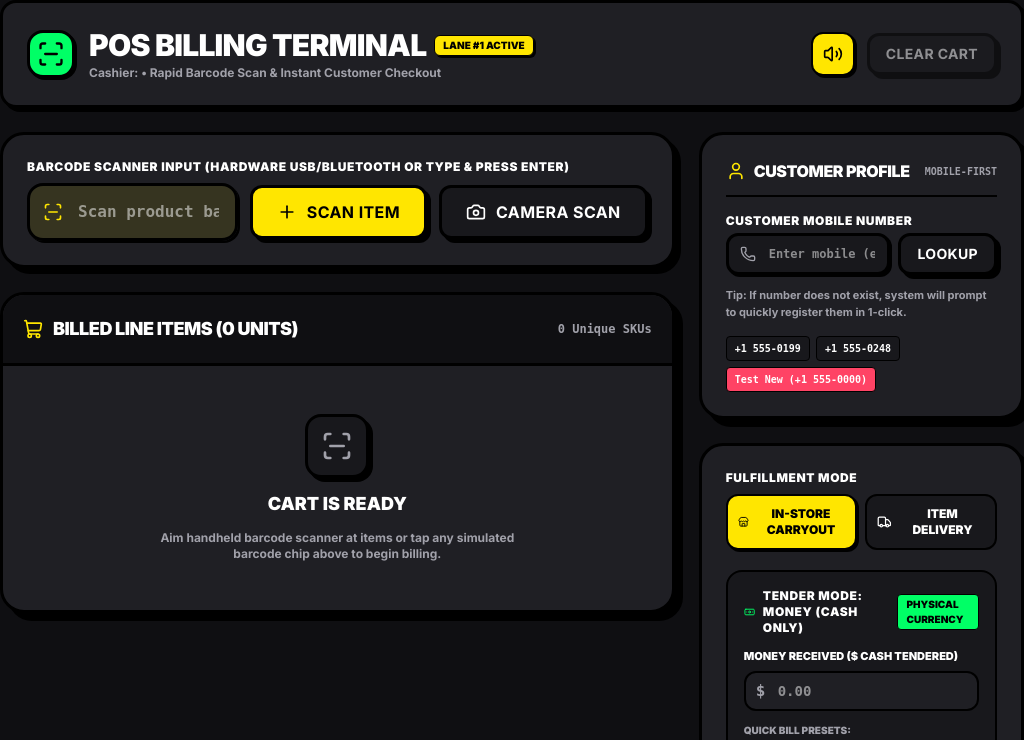
Test: PosBillingPage Component › looks up existing customer by mobile and attaches to order
Type "+1 555-0199" into the field with placeholder "Enter mobile (e.g. +1 555-0199)".
click(808, 254); type("+1 555-0199")  # box [726,233,890,275]
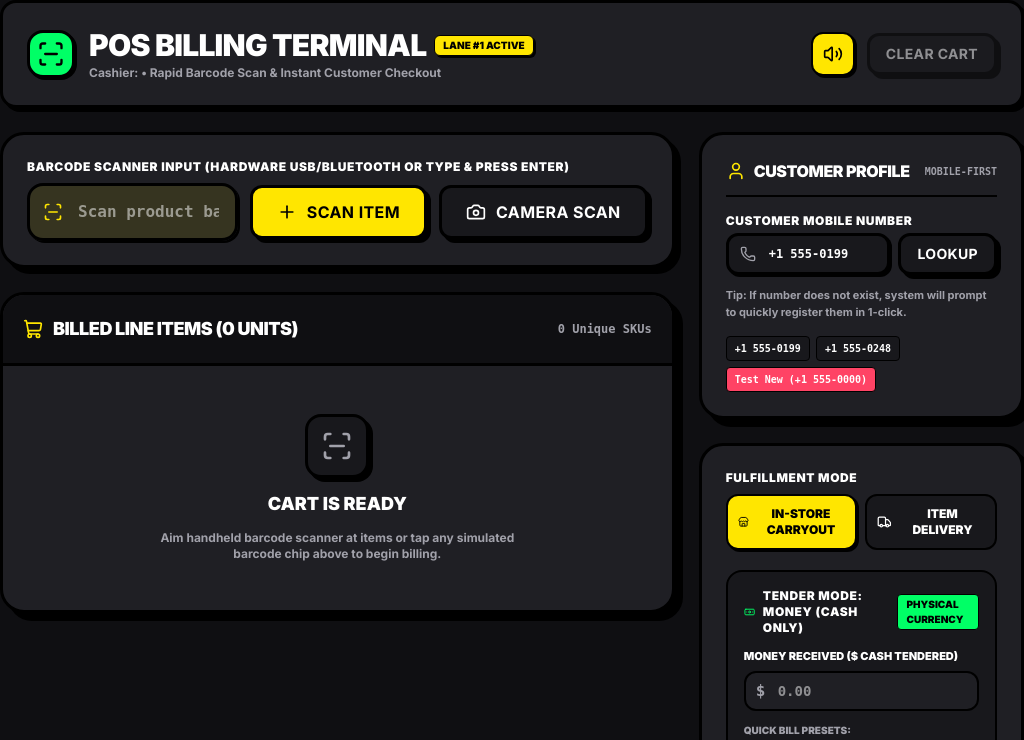
Click the button "Lookup".
click(948, 254)  # box [898,233,997,275]
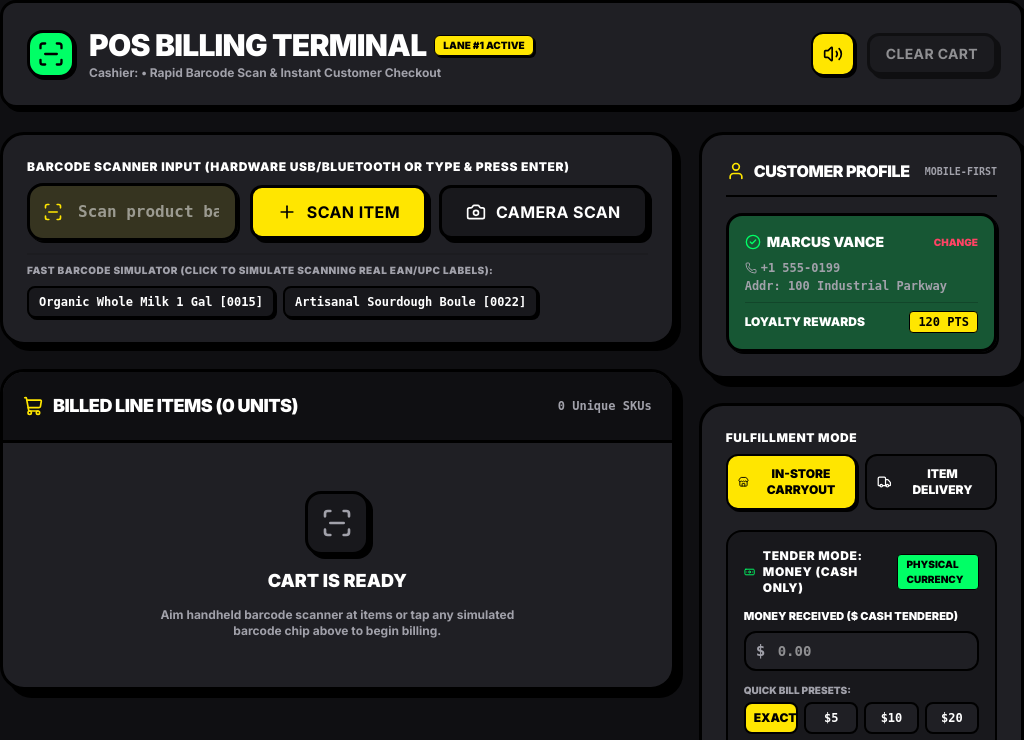
Expected: the text "Marcus Vance" is shown, [767,232,884,252]
Expected: the text "120 Pts" is shown, [909,311,978,333]
